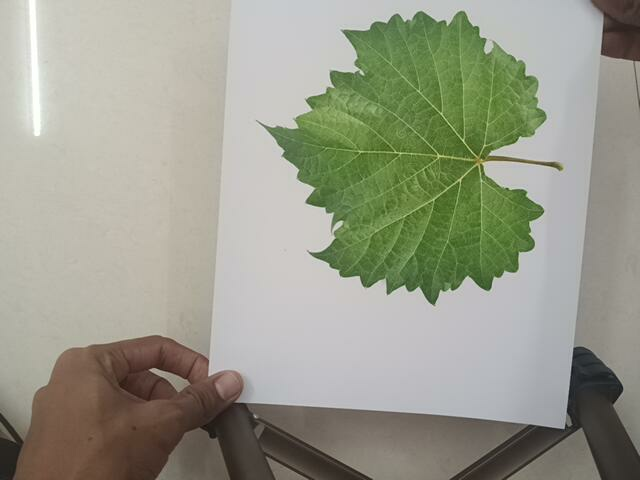Grape_Healthy: (257, 13, 574, 301)
